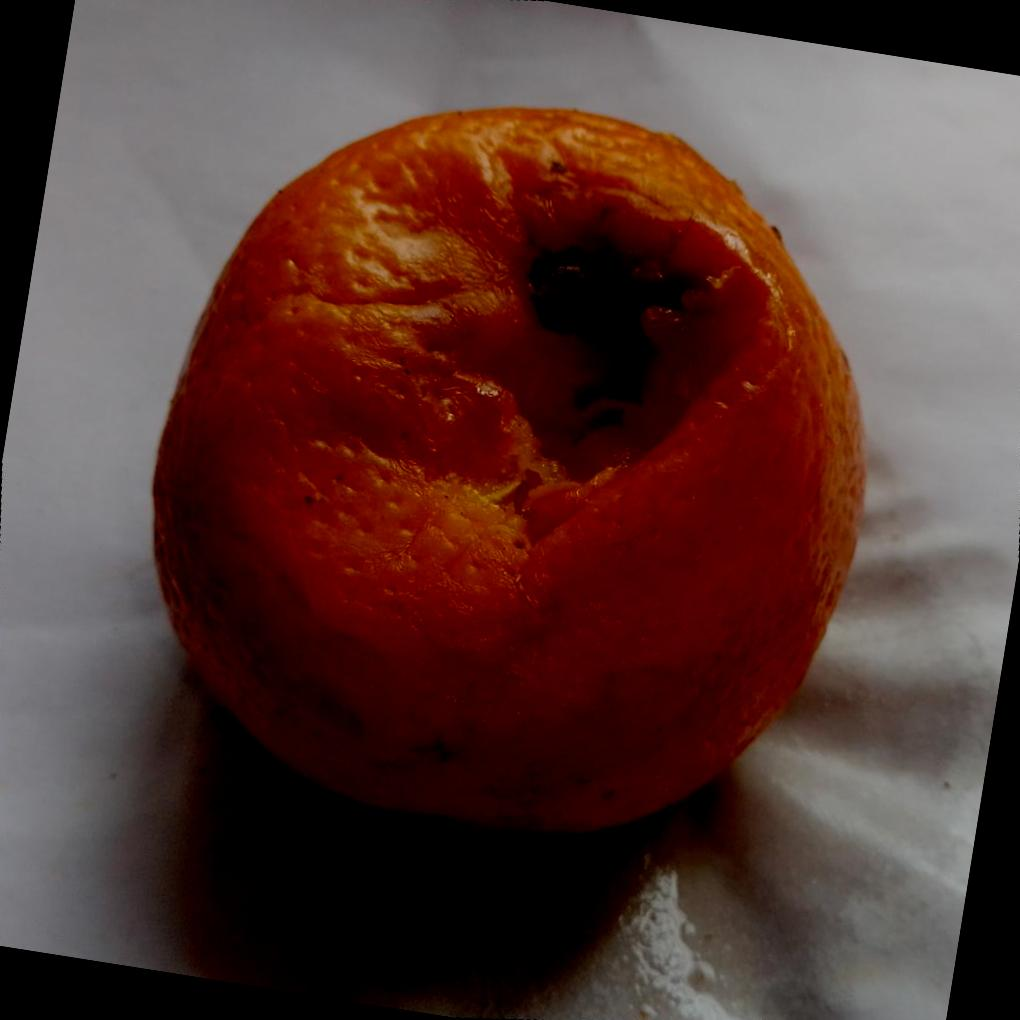FreshOrange: (151, 102, 872, 841)
